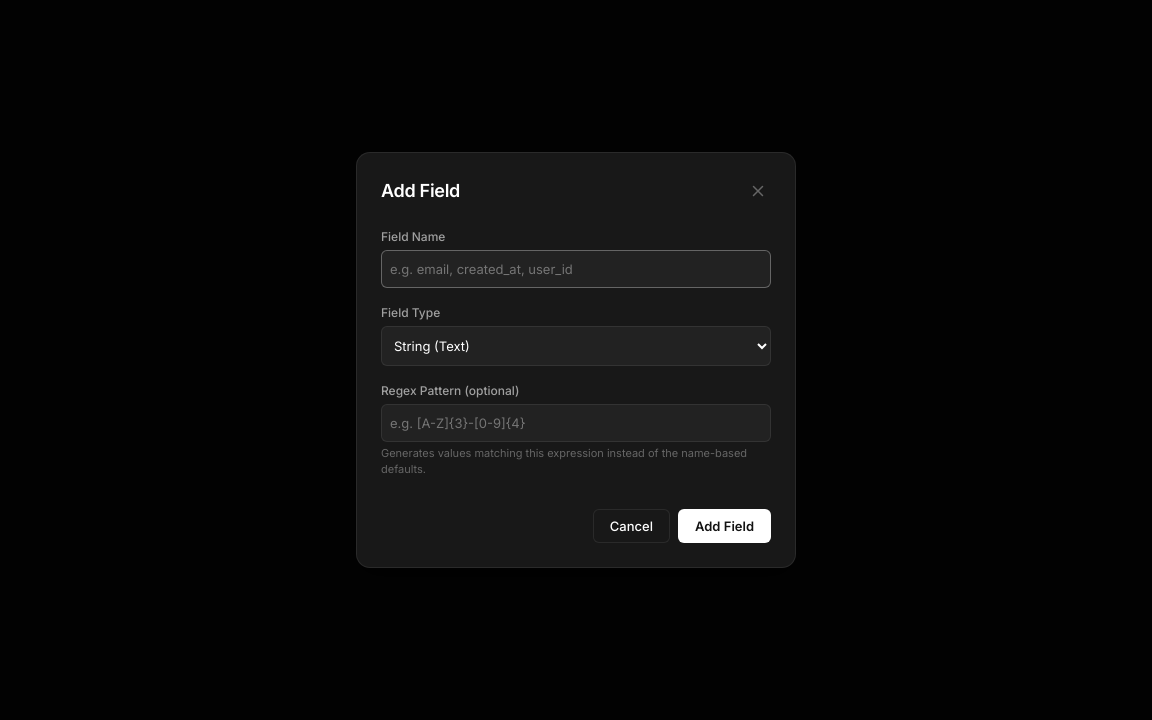
FieldModal — validation › requires at least one option when the field type is Enum
Type "role" into the field labelled "Field Name". click: coordinates (576, 269)
box: x1=381 y1=250 x2=771 y2=288
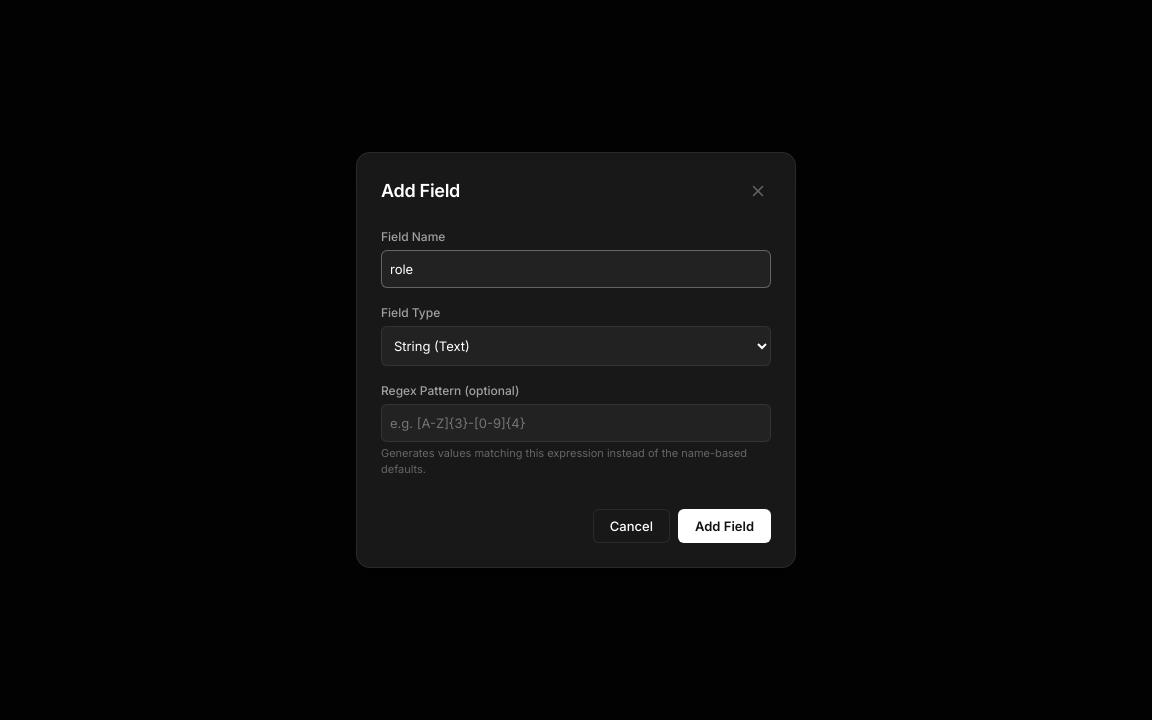
Select "Enum (Select Options)" in the dropdown labelled "Field Type". click: coordinates (576, 346)
box: x1=381 y1=326 x2=771 y2=366
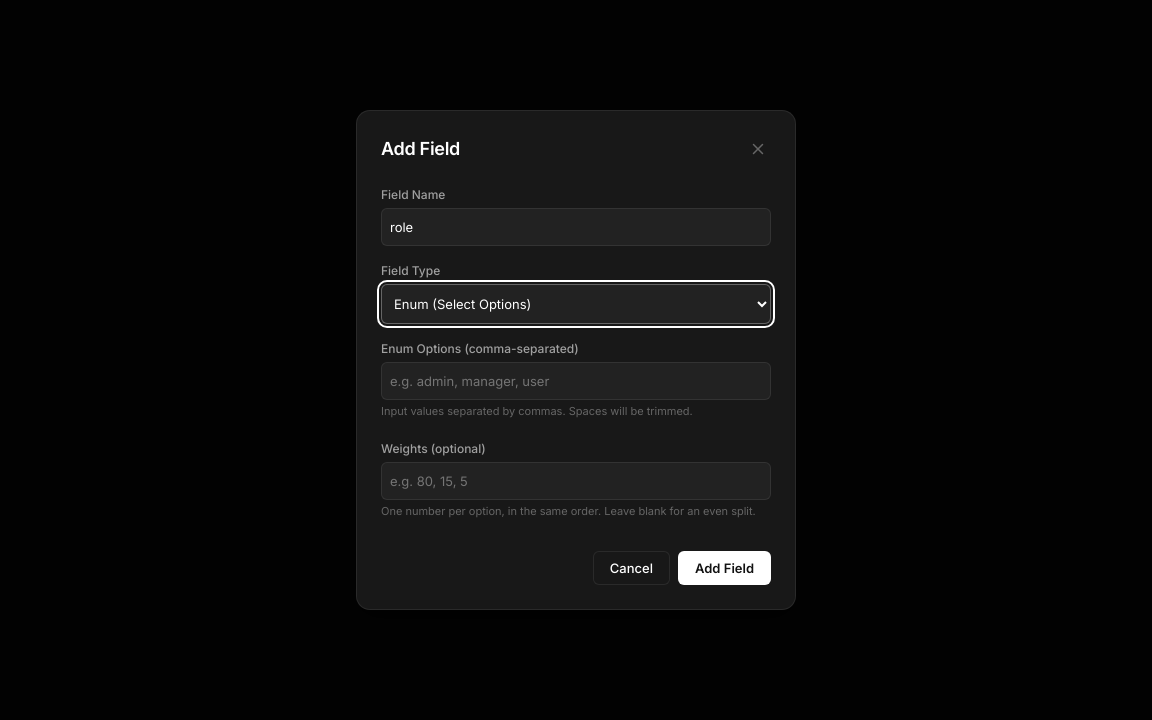
Click the button "Add Field". click: coordinates (724, 568)
box: x1=678 y1=551 x2=771 y2=585
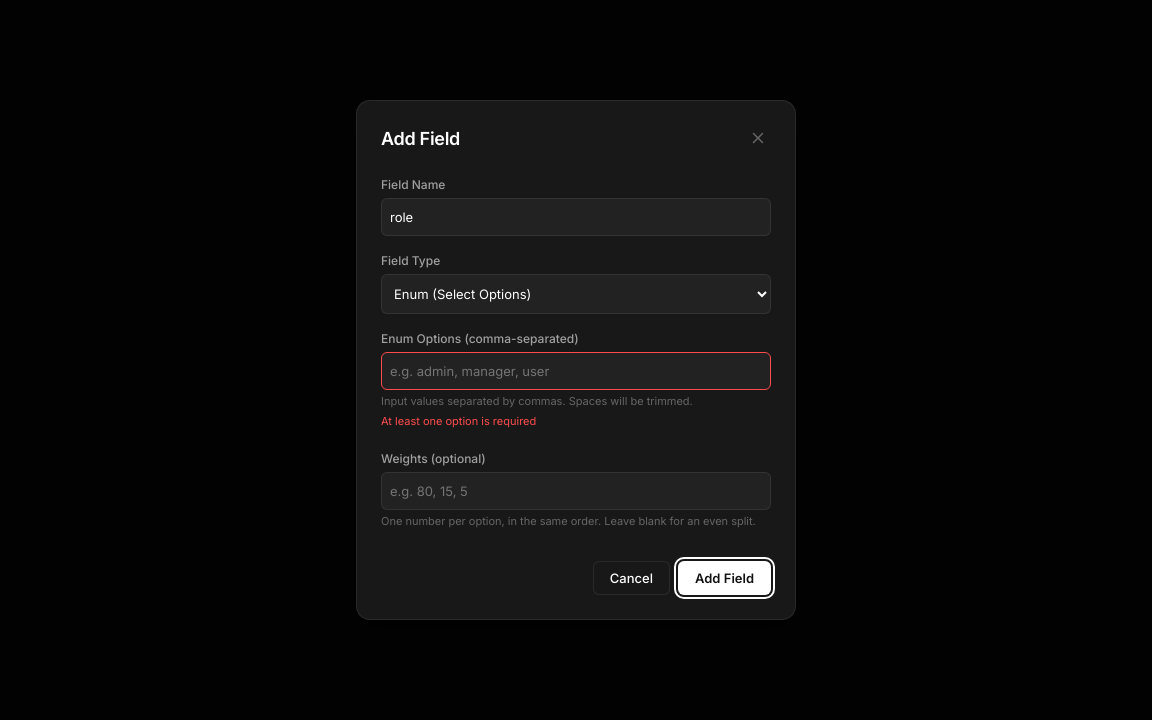
Now the text "At least one option is required" is shown, box x1=381 y1=414 x2=536 y2=428
